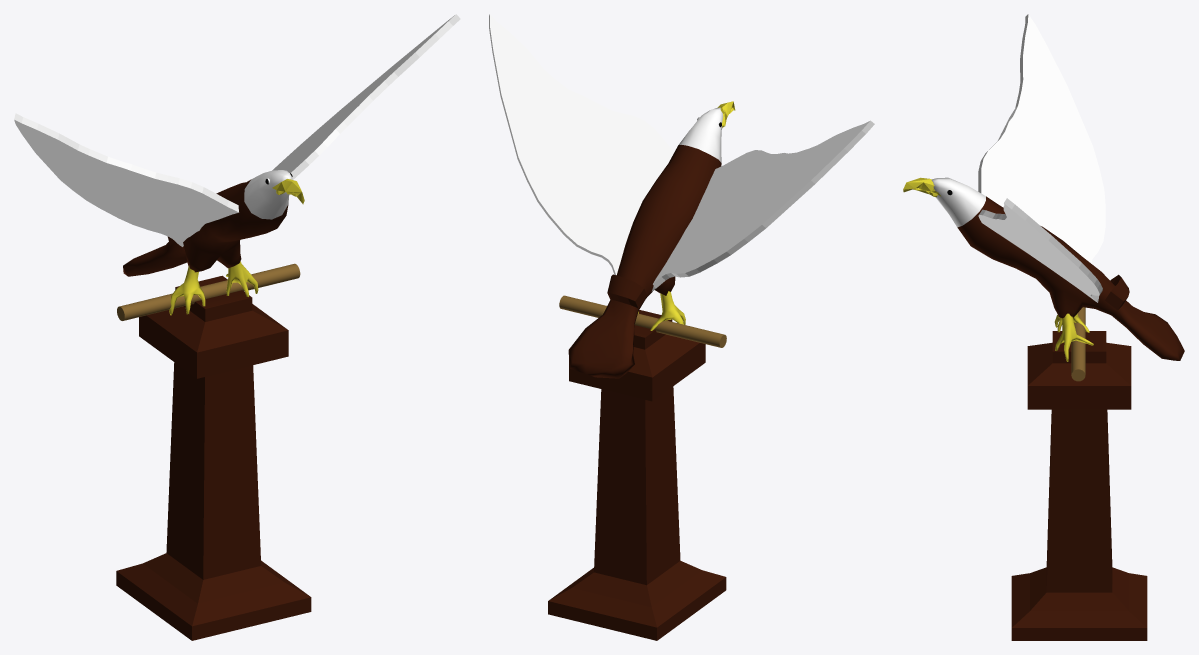
Rendered from eagle final uv.fbx.
The picture shows the model from 3 angles, left to right: view 1: azimuth 30°, elevation 25°; view 2: azimuth 150°, elevation 25°; view 3: azimuth 270°, elevation 25°; orthographic projection. The views are drawn at different scales.
Parts seen in each view (by area): view 1: Stand, left_wing, eagle_body, right_wing, eaglecylinder, left_leg; view 2: Stand, right_wing, eagle_body, left_wing, eaglecylinder, left_leg; view 3: Stand, left_wing, eagle_body, right_wing, eaglecylinder, right_leg.
Part boxes in pixels (box(x1,y1,x2,y2)): Stand: box(116, 275, 311, 640); left_wing: box(14, 113, 238, 246); eagle_body: box(123, 170, 292, 276); right_wing: box(272, 14, 460, 179); eaglecylinder: box(117, 263, 300, 320); left_leg: box(169, 265, 205, 315); Stand: box(548, 310, 726, 640); right_wing: box(489, 14, 673, 275); eagle_body: box(568, 107, 723, 378); left_wing: box(651, 120, 874, 291); eaglecylinder: box(559, 295, 726, 347); left_leg: box(650, 291, 685, 330); Stand: box(1011, 331, 1147, 640); left_wing: box(978, 14, 1105, 263); eagle_body: box(931, 177, 1184, 360); right_wing: box(978, 198, 1102, 302); eaglecylinder: box(1071, 307, 1085, 381); right_leg: box(1055, 313, 1093, 361).
Size of the model in its own units: 150 by 186 by 94.01.
